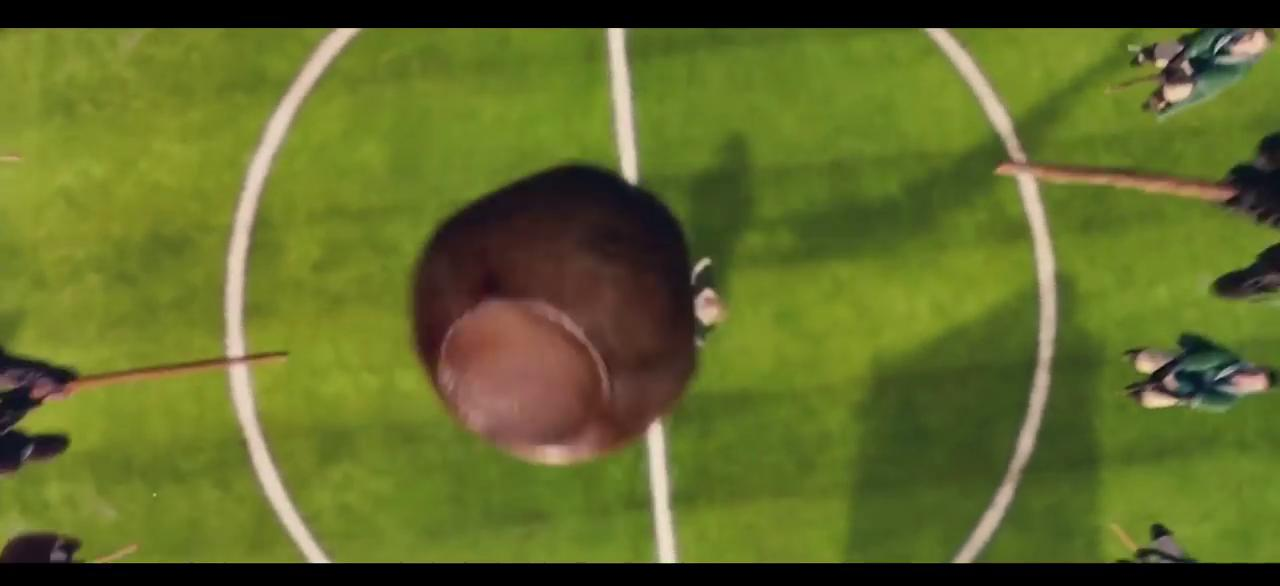quaffle: (406, 161, 696, 464)
